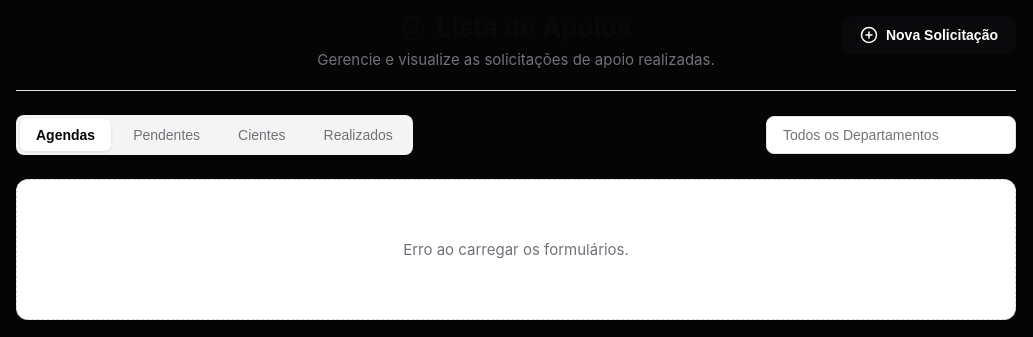
Test: ApoiosContainer Component - Ordenação das abas › deve exibir mensagem de erro se a busca falhar e recuperar atomicamente na troca de aba
The image size is (1033, 337).
Expected: the message shows "Erro ao carregar os formulários", [403,240,629,259]
Click the button "pendentes" at (167, 135), box [117,119,216,151]
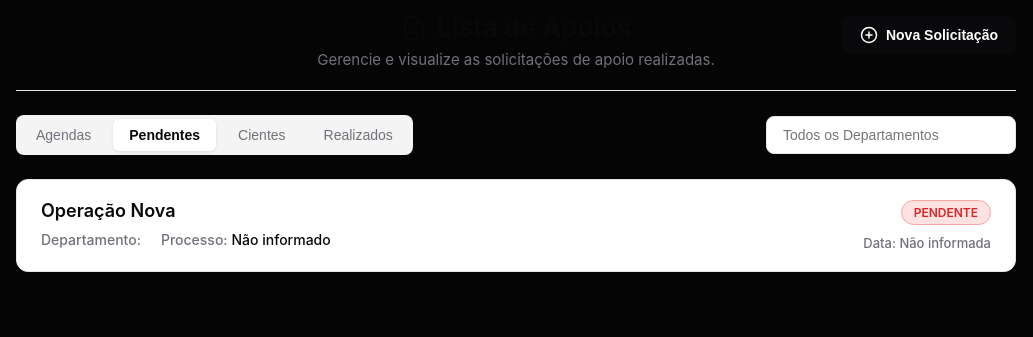
Result: the heading "Operação Nova" is shown at [41,200,176,221]
